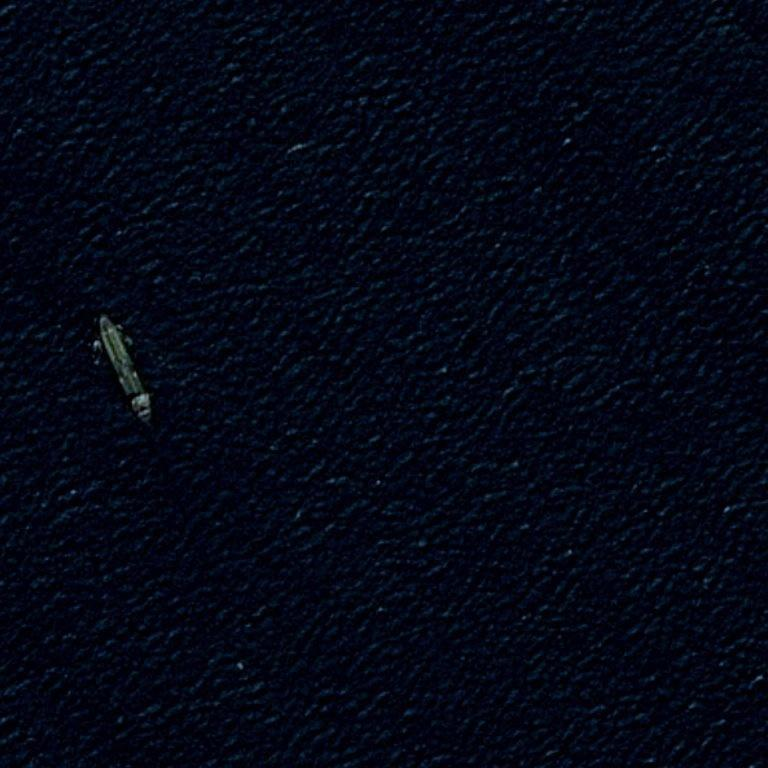ship: (91, 313, 159, 427)
